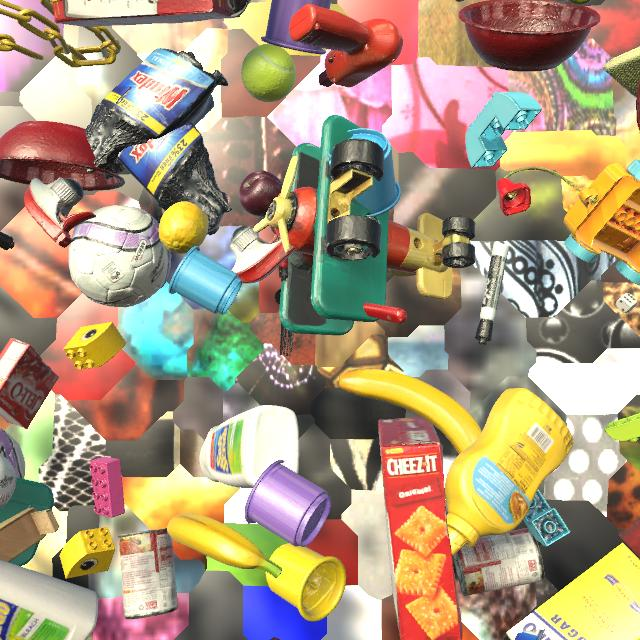ycb_003_cracker_box: (378, 417, 463, 640), (53, 0, 240, 27)
ycb_004_sugar_box: (506, 543, 640, 640)
ycb_005_tomato_soup_can: (453, 528, 544, 596), (118, 528, 178, 619), (227, 0, 251, 18)
ycb_006_mustard_bottle: (445, 388, 574, 556)
ycb_007_tuna_fish_can: (515, 629, 546, 640)
ycb_009_gelatin_box: (0, 338, 59, 429)
ycb_011_banana: (339, 369, 482, 454), (167, 512, 282, 578)
ycb_014_lemon: (159, 201, 209, 254)
ycb_016_pear: (553, 0, 591, 5)
ycb_018_plum: (239, 171, 283, 217)
